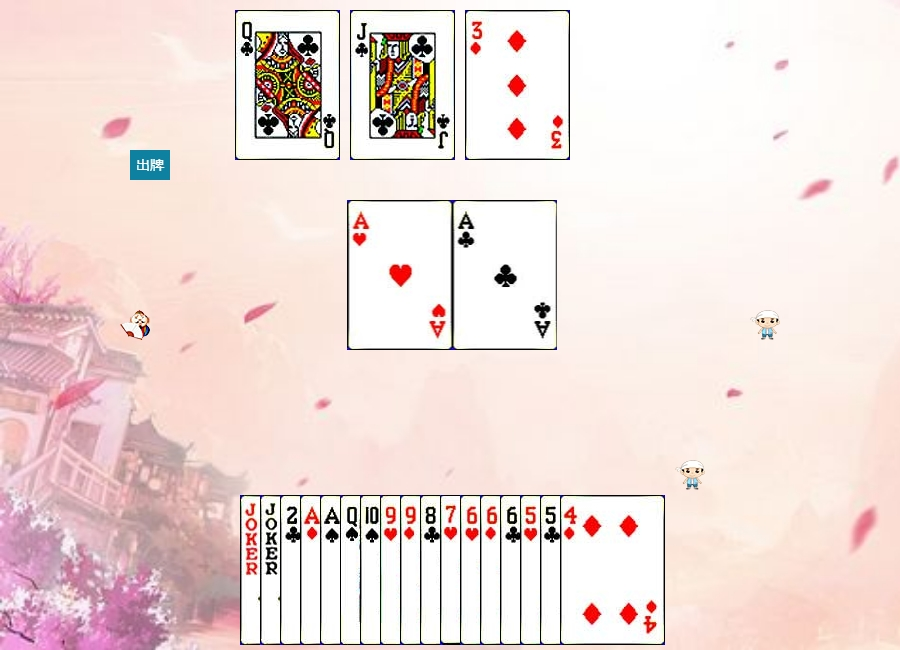10~4: (360, 495, 465, 645)
11~2: (350, 10, 455, 160)
12~2: (235, 10, 340, 160)
12~4: (340, 495, 445, 645)
14~1: (300, 495, 405, 645)
14~2: (453, 200, 558, 350)
14~3: (348, 200, 453, 350)
14~4: (320, 495, 425, 645)
15~2: (280, 495, 385, 645)
17~3: (260, 495, 365, 645)
18~4: (240, 495, 345, 645)
3~1: (465, 10, 570, 160)
4~1: (560, 495, 665, 645)
5~2: (540, 495, 645, 645)
5~3: (520, 495, 625, 645)
6~1: (480, 495, 585, 645)
6~2: (500, 495, 605, 645)
6~3: (460, 495, 565, 645)
7~3: (440, 495, 545, 645)
8~2: (420, 495, 525, 645)
9~1: (400, 495, 505, 645)
9~3: (380, 495, 485, 645)
